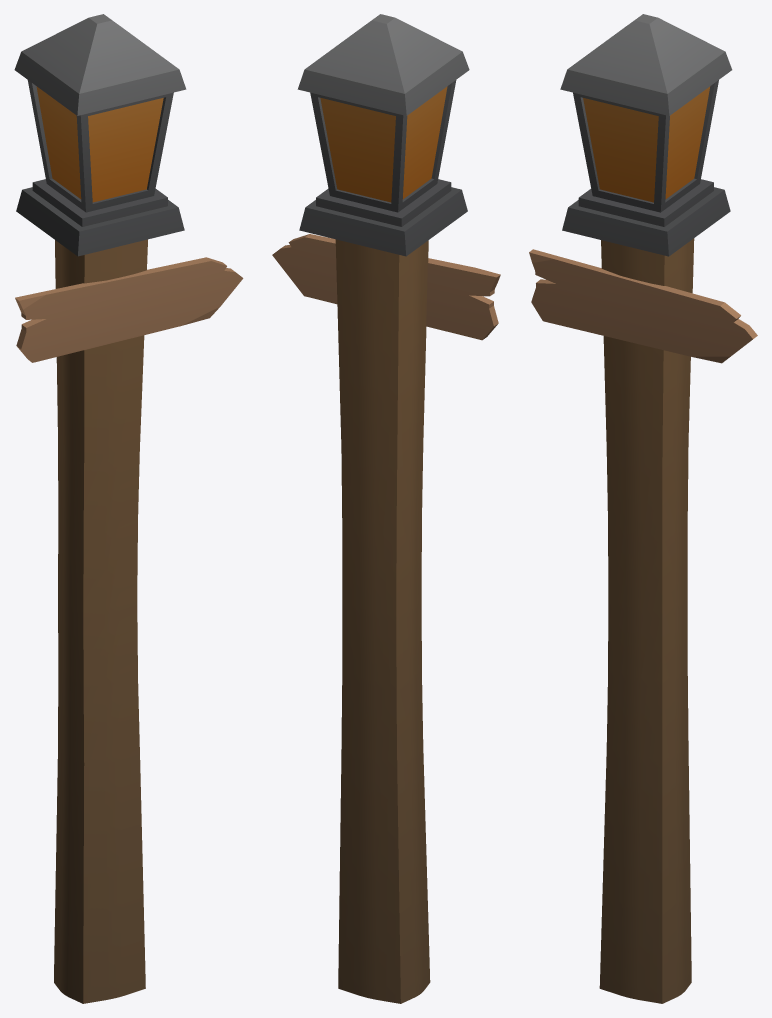
The model's file is Lantern_05.fbx.
The picture shows the model from 3 angles, left to right: view 1: azimuth 30°, elevation 25°; view 2: azimuth 150°, elevation 25°; view 3: azimuth 330°, elevation 25°; orthographic projection.
Parts seen in each view (by area): view 1: Lantern_05_LOD0; view 2: Lantern_05_LOD0; view 3: Lantern_05_LOD0.
Part boxes in pixels (x1=…): Lantern_05_LOD0: x1=14, y1=14, x2=243, y2=1003; Lantern_05_LOD0: x1=272, y1=14, x2=500, y2=1003; Lantern_05_LOD0: x1=529, y1=14, x2=757, y2=1003.
Size of what is drawn, in the model's own units: 0.5158 by 2.12 by 0.2506.
